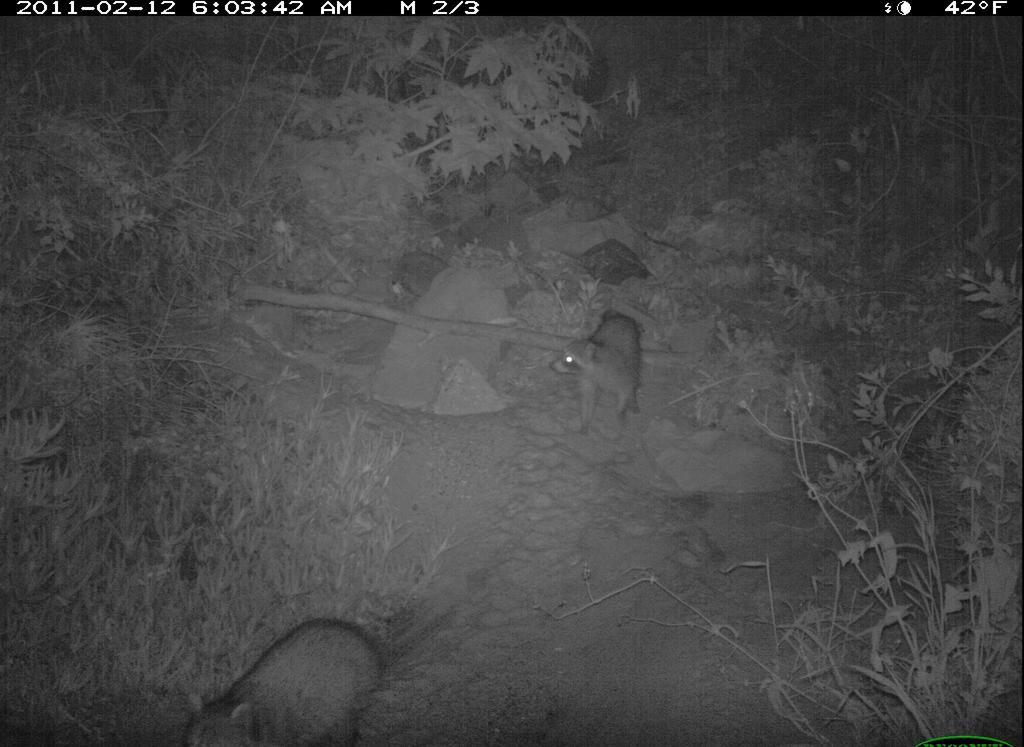raccoon: (176, 609, 400, 747), (507, 272, 683, 447)
